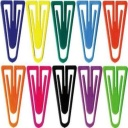Metal: (73, 61, 103, 128), (49, 62, 79, 128), (50, 0, 78, 67), (100, 64, 128, 128), (25, 63, 51, 128), (76, 0, 102, 64), (0, 64, 26, 128), (103, 0, 128, 66), (0, 0, 26, 63), (25, 1, 47, 65)
